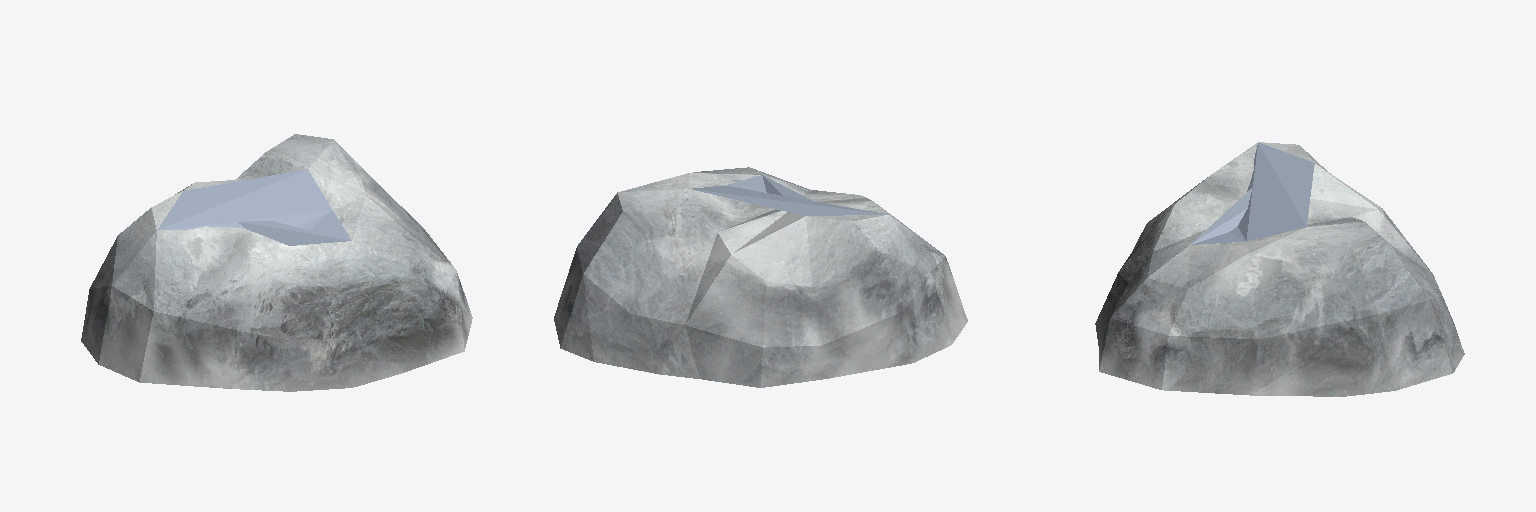
3 renders of one model, left to right at view 1: azimuth 30°, elevation 25°; view 2: azimuth 150°, elevation 25°; view 3: azimuth 270°, elevation 25°, orthographic.
Visible parts, largest first — view 1: boulder, frame_base; view 2: boulder, frame_base; view 3: boulder, frame_base.
Part boxes in pixels (x1,y1,x2,y2): boulder: (81,134,472,391); frame_base: (157,169,351,245); boulder: (554,167,967,387); frame_base: (692,175,887,215); boulder: (1095,142,1464,396); frame_base: (1190,142,1314,244).
Bounding box in the file's own units: 215 × 79.55 × 202.
Materials: 2 (1 with a texture image).